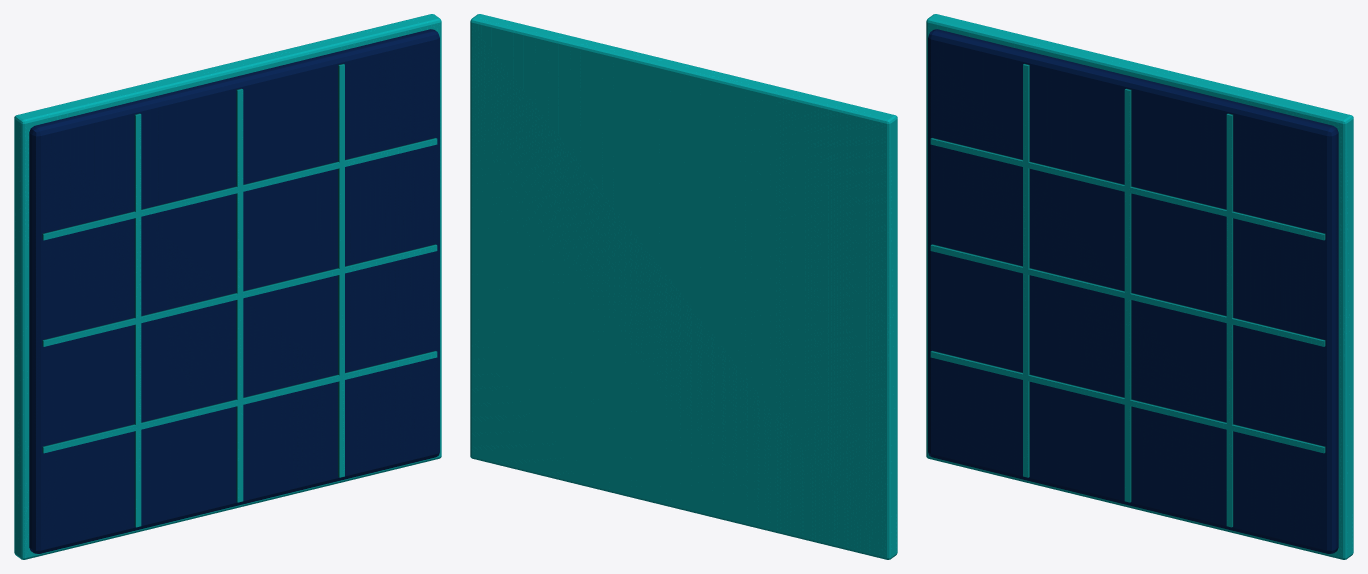
Rendered from part_solar_tile.glb.
The picture shows the model from 3 angles, left to right: view 1: azimuth 30°, elevation 25°; view 2: azimuth 150°, elevation 25°; view 3: azimuth 330°, elevation 25°; orthographic projection.
Visible parts, largest first — view 1: part_solar_tile; view 2: part_solar_tile; view 3: part_solar_tile.
Boxes of the visible parts, <box> form: part_solar_tile: <box>14,14,441,559</box>; part_solar_tile: <box>470,14,897,559</box>; part_solar_tile: <box>926,14,1353,559</box>.
Bounding box in the file's own units: 0.31 × 0.31 × 0.022.
1 material, 1 textured.
